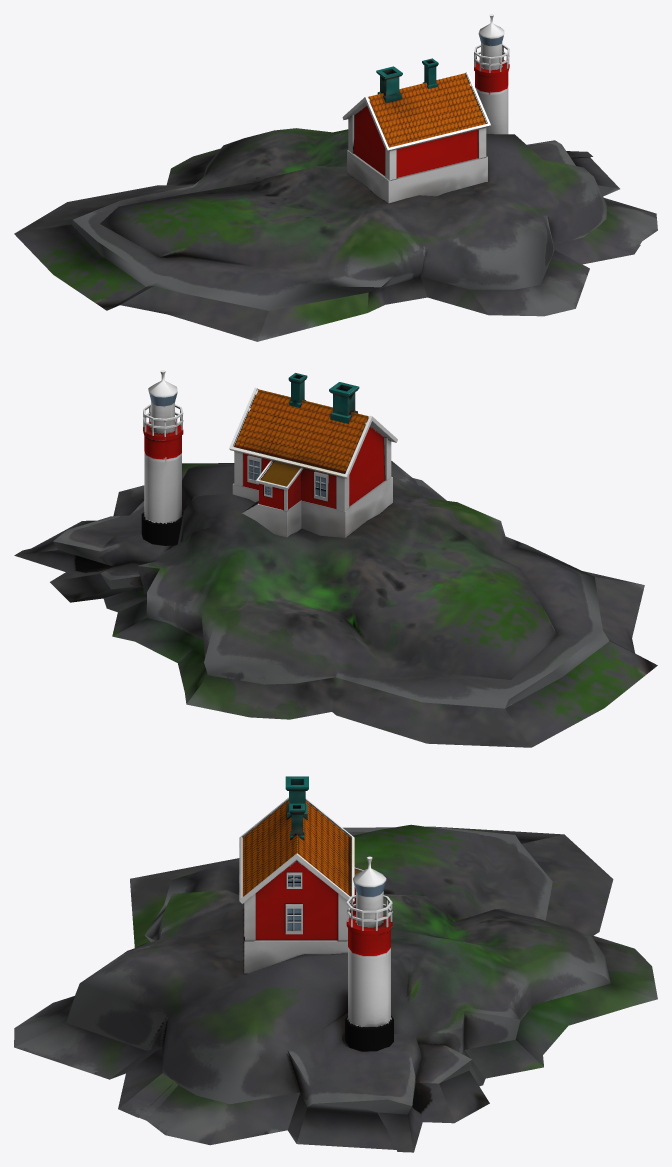
The model's file is Island.fbx.
The picture shows the model from 3 angles, top to bottom: view 1: azimuth 30°, elevation 25°; view 2: azimuth 150°, elevation 25°; view 3: azimuth 270°, elevation 25°; orthographic projection. The views are drawn at different scales.
Parts seen in each view (by area): view 1: Rocks_low_poly:House1:Hus; view 2: Rocks_low_poly:House1:Hus; view 3: Rocks_low_poly:House1:Hus.
Boxes of the visible parts, x1=… form: Rocks_low_poly:House1:Hus: x1=14, y1=14, x2=657, y2=341; Rocks_low_poly:House1:Hus: x1=14, y1=370, x2=657, y2=747; Rocks_low_poly:House1:Hus: x1=14, y1=776, x2=657, y2=1152.
Bounding box in the file's own units: 72.49 × 23.29 × 60.54.
1 material, 1 textured.
